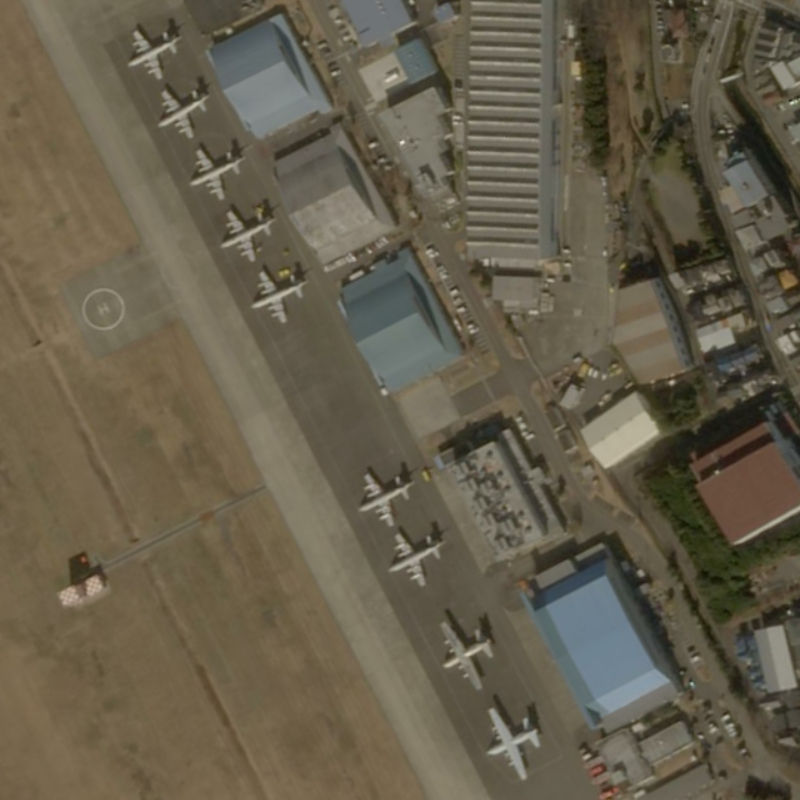A2: (480, 704, 547, 784), (435, 619, 497, 692)
A9: (354, 465, 418, 531), (385, 530, 447, 591), (248, 268, 308, 328), (217, 207, 278, 266), (125, 24, 185, 82), (186, 145, 246, 203), (155, 86, 212, 141)
